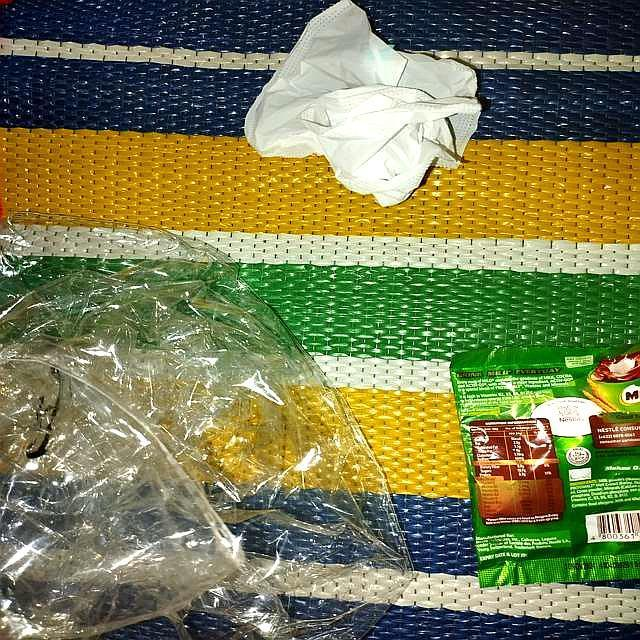Non-biodegradable: (1, 210, 417, 640), (245, 2, 485, 209), (448, 346, 640, 591)
